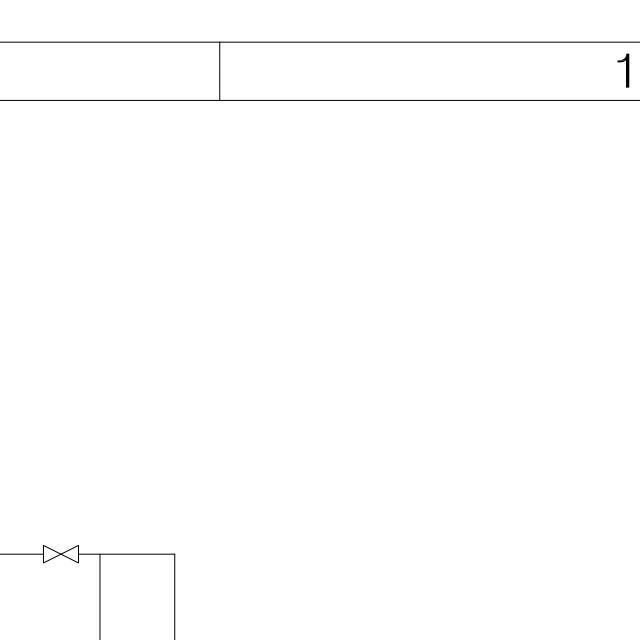GV: (38, 541, 83, 565)
